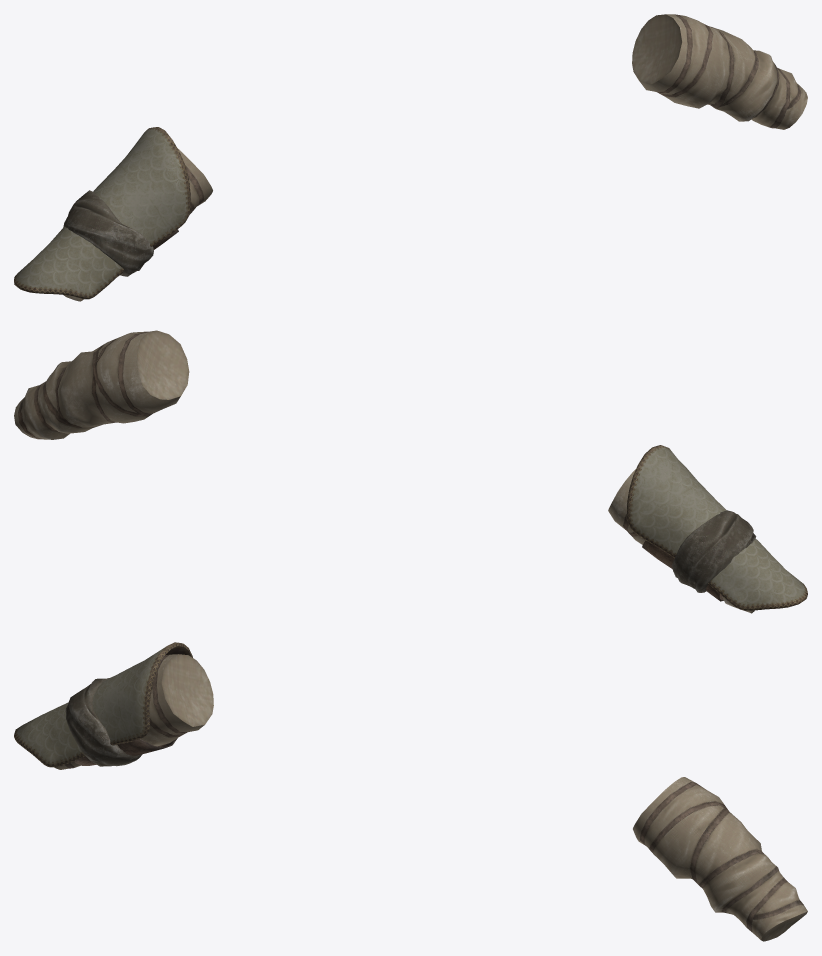
The model's file is dunland_wulf_bracer_medium_c.fbx.
The picture shows the model from 3 angles, top to bottom: view 1: azimuth 30°, elevation 25°; view 2: azimuth 150°, elevation 25°; view 3: azimuth 330°, elevation 25°; orthographic projection.
Visible parts, largest first — view 1: dunland_wulf_bracer_medium_c; view 2: dunland_wulf_bracer_medium_c; view 3: dunland_wulf_bracer_medium_c.
Boxes of the visible parts, box(x1,y1,x2,y2) form: dunland_wulf_bracer_medium_c: box(14, 14, 807, 301); dunland_wulf_bracer_medium_c: box(14, 330, 807, 613); dunland_wulf_bracer_medium_c: box(14, 642, 807, 941).
Size of the model in its own units: 1.43 by 0.1571 by 0.2448.
Materials: 1 (1 with a texture image).
